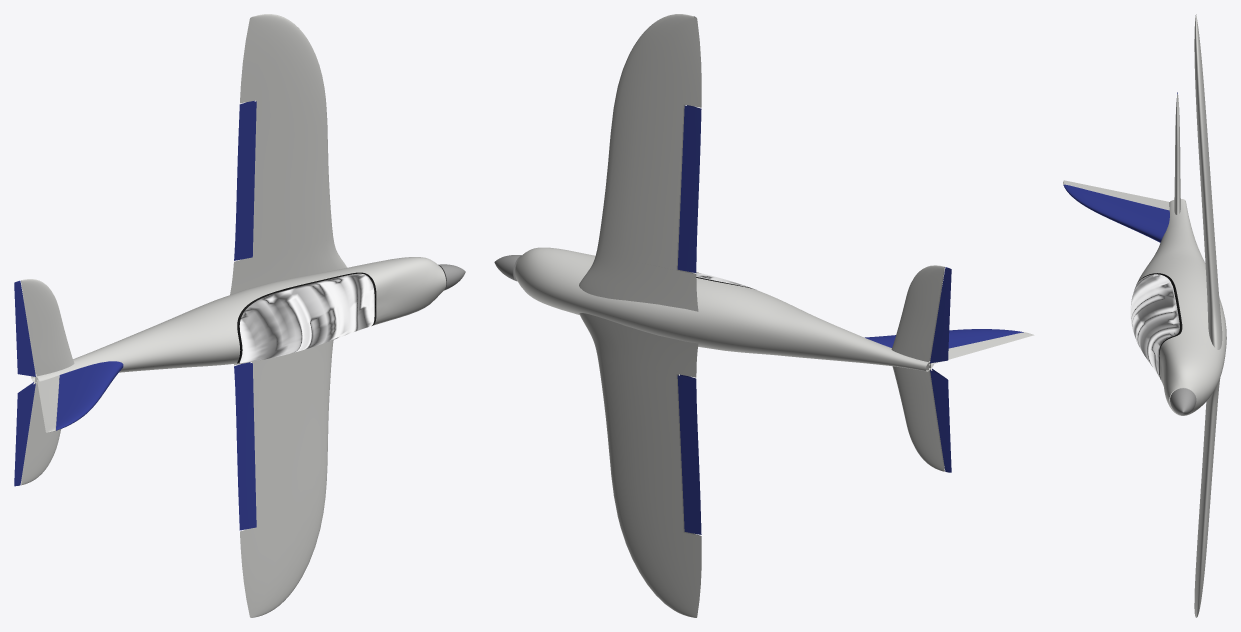
The model's file is Shark-Tail_Aircraft.fbx.
3 renders of one model, left to right at view 1: azimuth 30°, elevation 25°; view 2: azimuth 150°, elevation 25°; view 3: azimuth 270°, elevation 25°, orthographic.
Visible parts, largest first — view 1: Body23, Body22, Body4, Body1, Body12, Body19, Body7, Body10, Body27, Body11, Body13, Body6; view 2: Body22, Body4, Body23, Body12, Body19, Body26, Body10, Body7, Body11, Body13, Body27, Body6; view 3: Body4, Body1, Body22, Body27, Body23, Body6, Body12, Body19, Body2, Body5.
Part boxes in pixels (left/top/right/bottom): Body23: left=240, top=343, right=332, bottom=617; Body22: left=240, top=14, right=333, bottom=257; Body4: left=31, top=257, right=446, bottom=383; Body1: left=239, top=273, right=374, bottom=363; Body12: left=21, top=279, right=74, bottom=485; Body19: left=230, top=237, right=347, bottom=294; Body7: left=234, top=362, right=256, bottom=530; Body10: left=234, top=100, right=256, bottom=260; Body27: left=56, top=361, right=123, bottom=430; Body11: left=14, top=382, right=35, bottom=486; Body13: left=14, top=280, right=35, bottom=376; Body6: left=37, top=375, right=59, bottom=432; Body22: left=597, top=14, right=701, bottom=270; Body4: left=515, top=247, right=933, bottom=371; Body23: left=597, top=355, right=701, bottom=617; Body12: left=891, top=265, right=944, bottom=471; Body19: left=579, top=249, right=698, bottom=311; Body26: left=579, top=313, right=698, bottom=377; Body10: left=677, top=105, right=701, bottom=272; Body7: left=677, top=374, right=701, bottom=534; Body11: left=930, top=368, right=951, bottom=472; Body13: left=930, top=267, right=951, bottom=363; Body27: left=865, top=329, right=1023, bottom=348; Body6: left=929, top=332, right=1034, bottom=365; Body4: left=1137, top=199, right=1226, bottom=415; Body1: left=1130, top=274, right=1179, bottom=378; Body22: left=1194, top=14, right=1218, bottom=302; Body27: left=1063, top=184, right=1169, bottom=242; Body23: left=1194, top=400, right=1217, bottom=617; Body6: left=1063, top=180, right=1169, bottom=210; Body12: left=1174, top=94, right=1180, bottom=214; Body19: left=1207, top=287, right=1222, bottom=349; Body2: left=1170, top=388, right=1196, bottom=415; Body5: left=1136, top=273, right=1182, bottom=379.
Size of the model in its own units: 997 by 1194 by 297.
